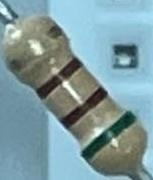Brown: (34, 55, 86, 102), (59, 84, 109, 130)
Green: (78, 110, 139, 164)
Side-Silver: (7, 24, 64, 75)
